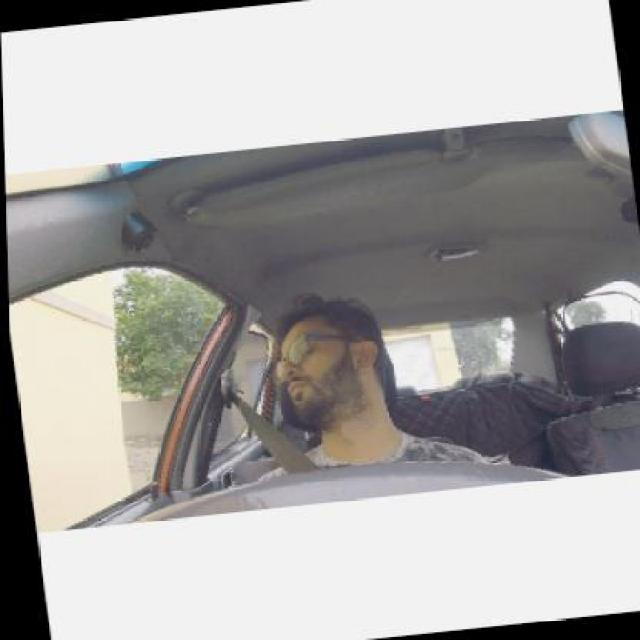drowsy: (262, 298, 397, 432)
